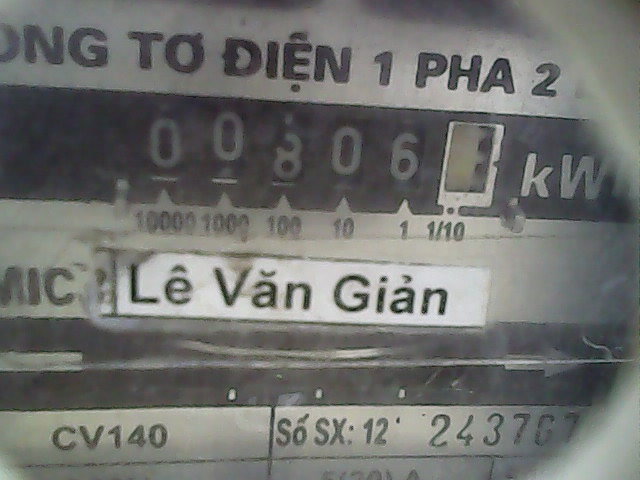phy_plate: (121, 89, 506, 226)
